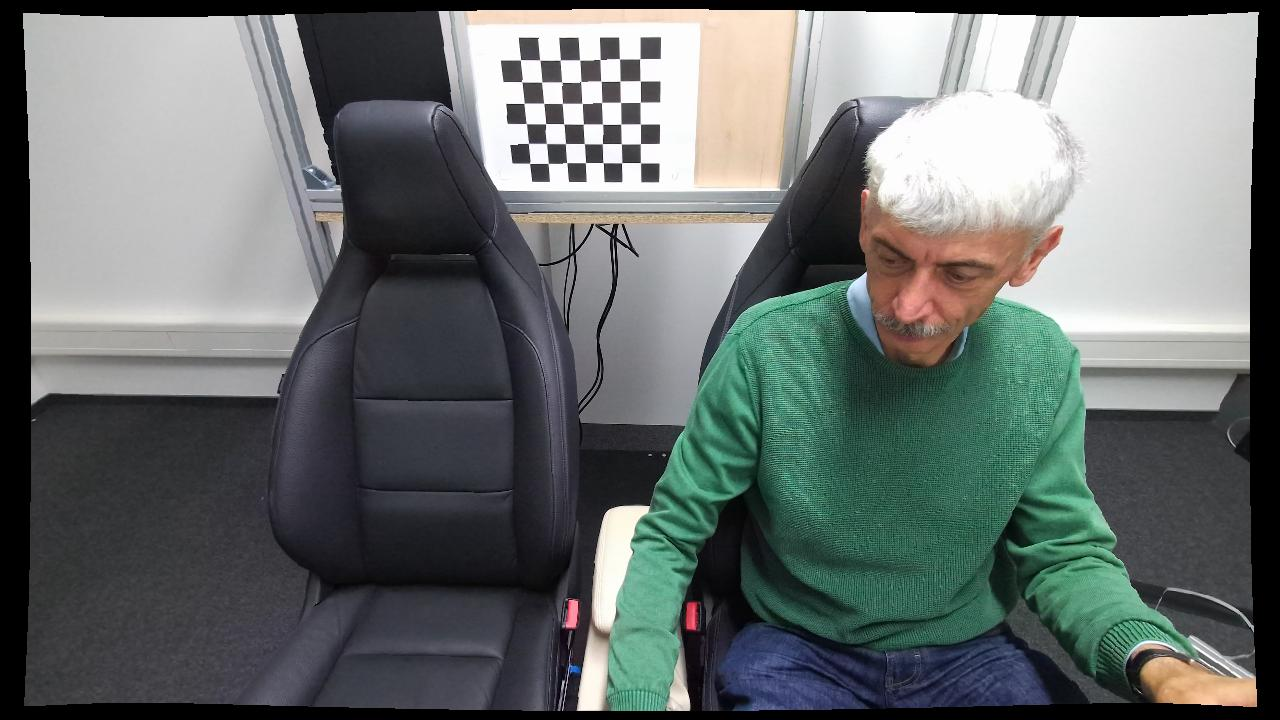Distracted: (605, 85, 1122, 711)
